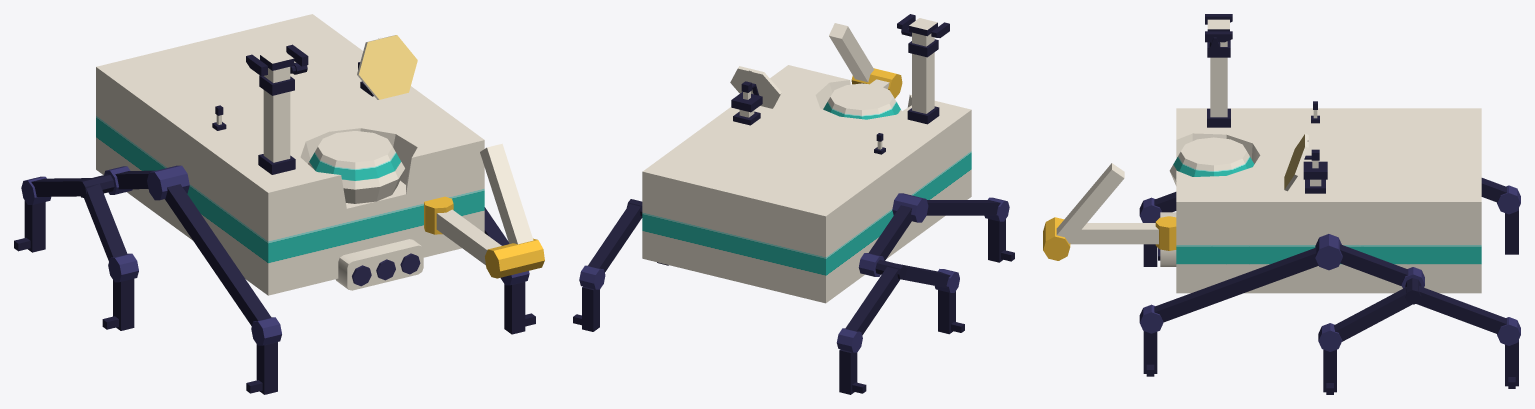
Rendered from Body.fbx.
3 renders of one model, left to right at view 1: azimuth 30°, elevation 25°; view 2: azimuth 150°, elevation 25°; view 3: azimuth 270°, elevation 25°, orthographic. The views are drawn at different scales.
Parts seen in each view (by area): view 1: Body, Camera Holder, Drill Arm 2, Drill Arm 1; view 2: Body, Camera Holder, Drill Arm 2; view 3: Body, Drill Arm 2, Camera Holder, Drill Arm 1.
Part boxes in pixels (bbox=[...]): Body: bbox=[14, 14, 535, 394]; Camera Holder: bbox=[246, 44, 308, 174]; Drill Arm 2: bbox=[480, 143, 544, 278]; Drill Arm 1: bbox=[424, 196, 501, 265]; Body: bbox=[573, 65, 1014, 394]; Camera Holder: bbox=[897, 14, 949, 124]; Drill Arm 2: bbox=[829, 23, 902, 98]; Body: bbox=[1139, 101, 1520, 394]; Drill Arm 2: bbox=[1043, 163, 1124, 260]; Camera Holder: bbox=[1205, 14, 1232, 127]; Drill Arm 1: bbox=[1070, 216, 1176, 250].
Bounding box in the file's own units: 20.53 × 15.61 × 25.9.
